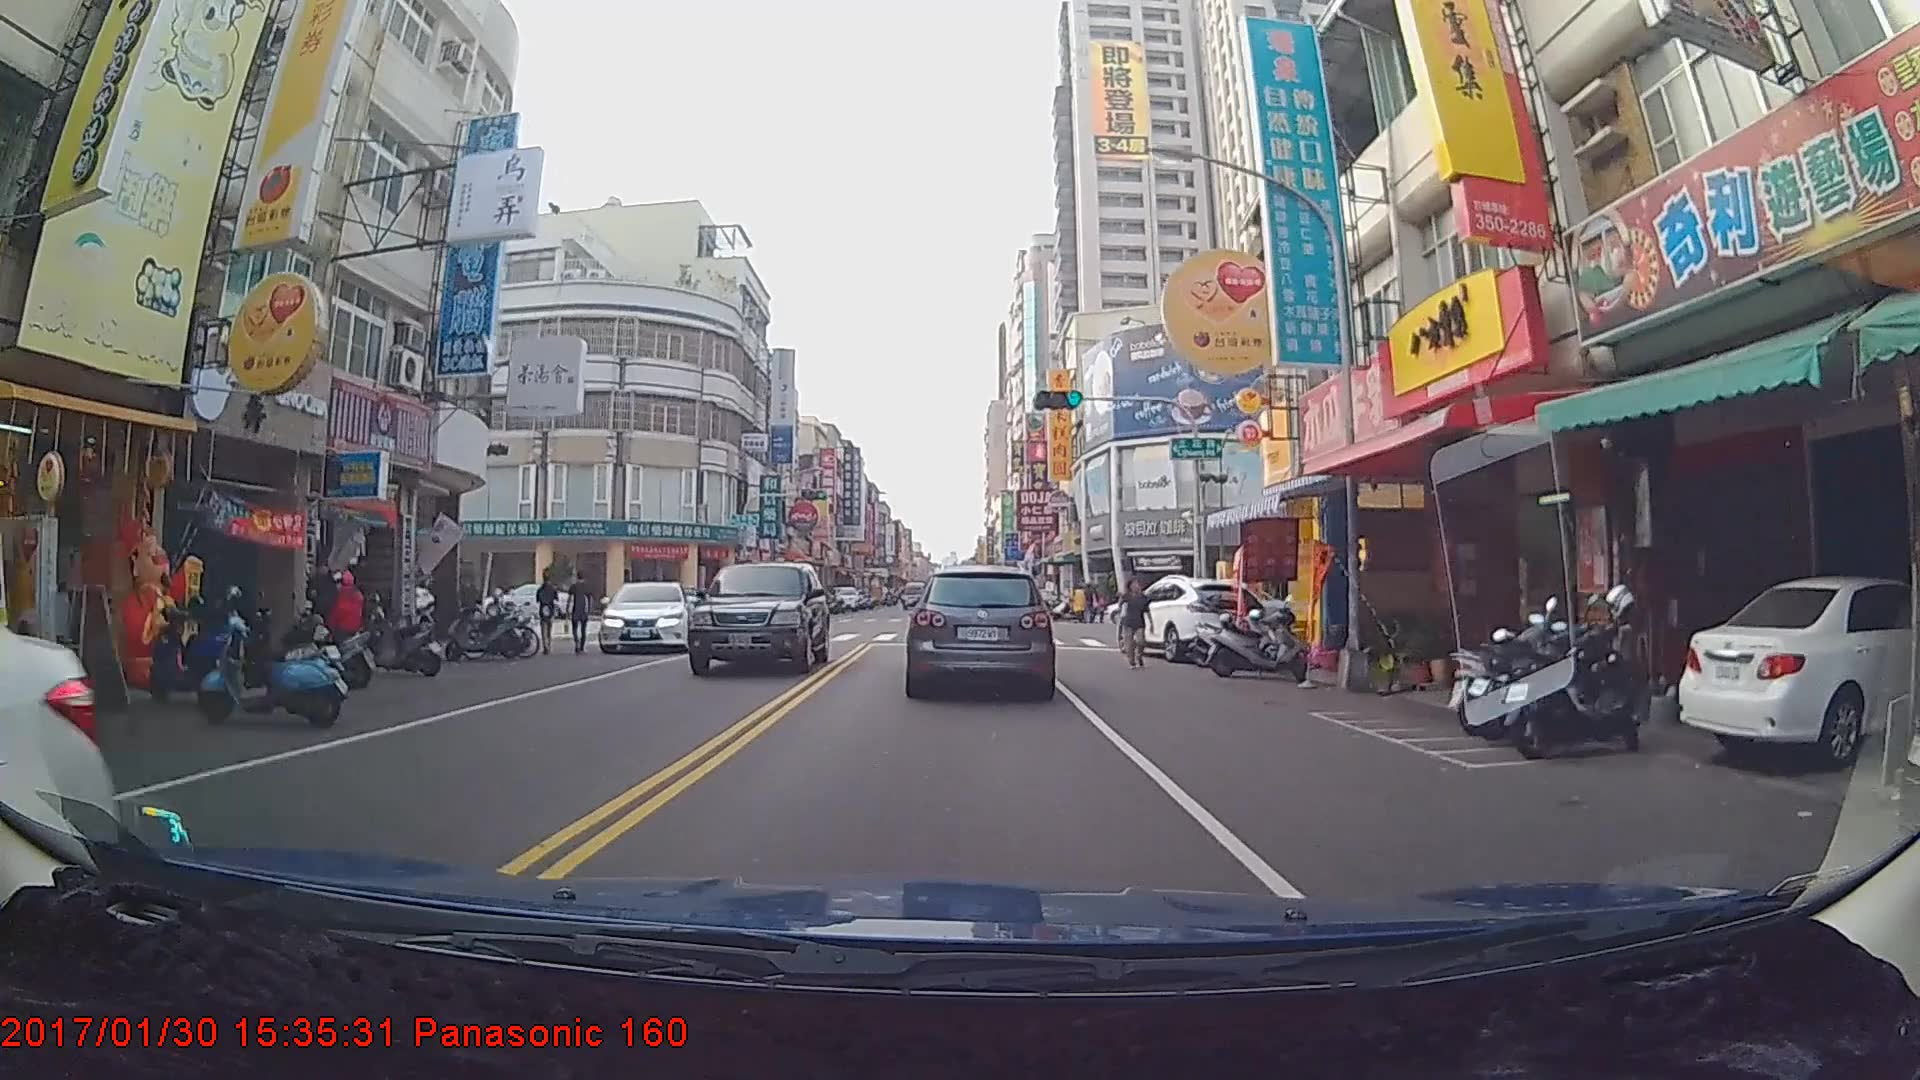pedestrian: (302, 551, 350, 663), (1116, 578, 1153, 666), (566, 569, 596, 650), (535, 572, 561, 657)
rider: (279, 566, 383, 695)
vehicle: (1672, 573, 1914, 772), (909, 564, 1053, 697), (686, 558, 831, 676), (1111, 573, 1269, 661), (596, 577, 694, 652), (902, 577, 929, 606)
